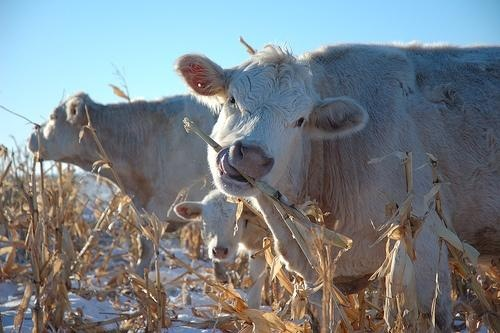cow: (175, 39, 500, 277), (26, 91, 229, 278), (174, 189, 270, 312)
